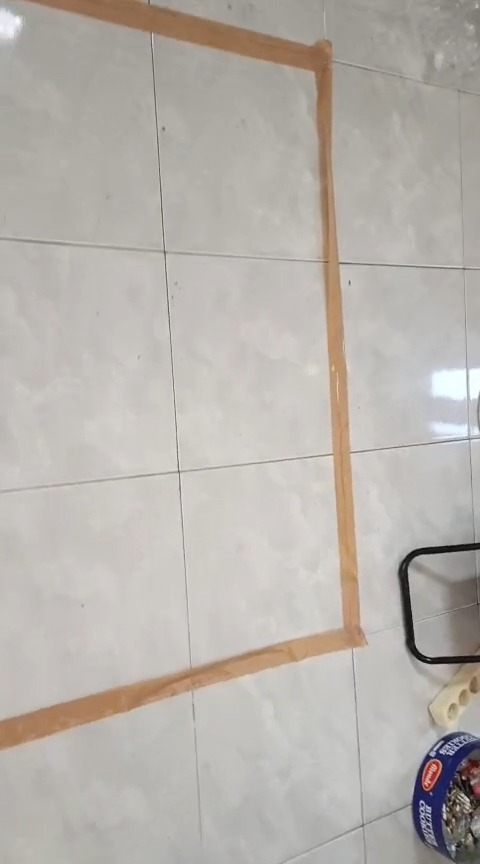floor marking: (0, 0, 365, 745)
